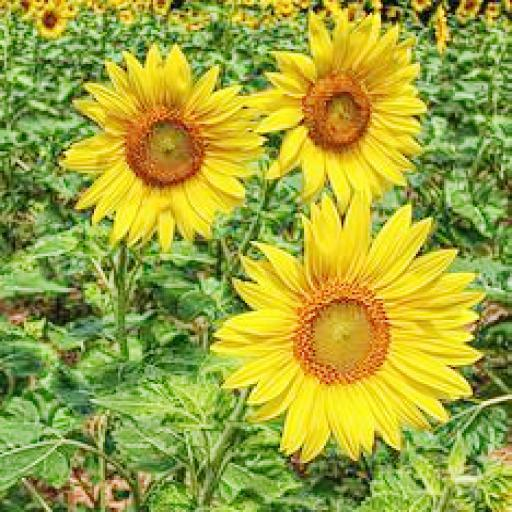sunflower: (223, 188, 486, 463), (68, 45, 262, 245), (262, 8, 436, 205)
